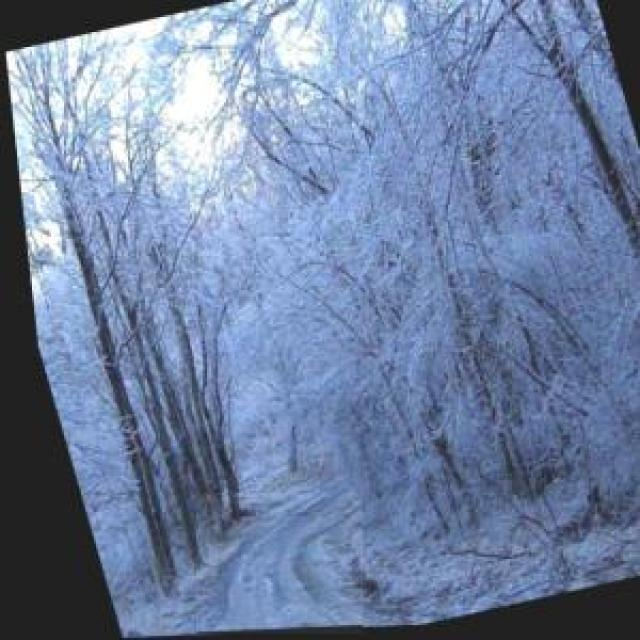ice-road: (199, 495, 363, 634)
